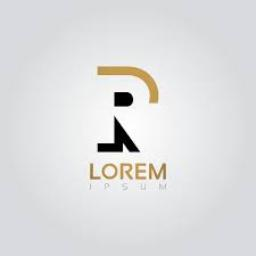r: (118, 162, 134, 182)
